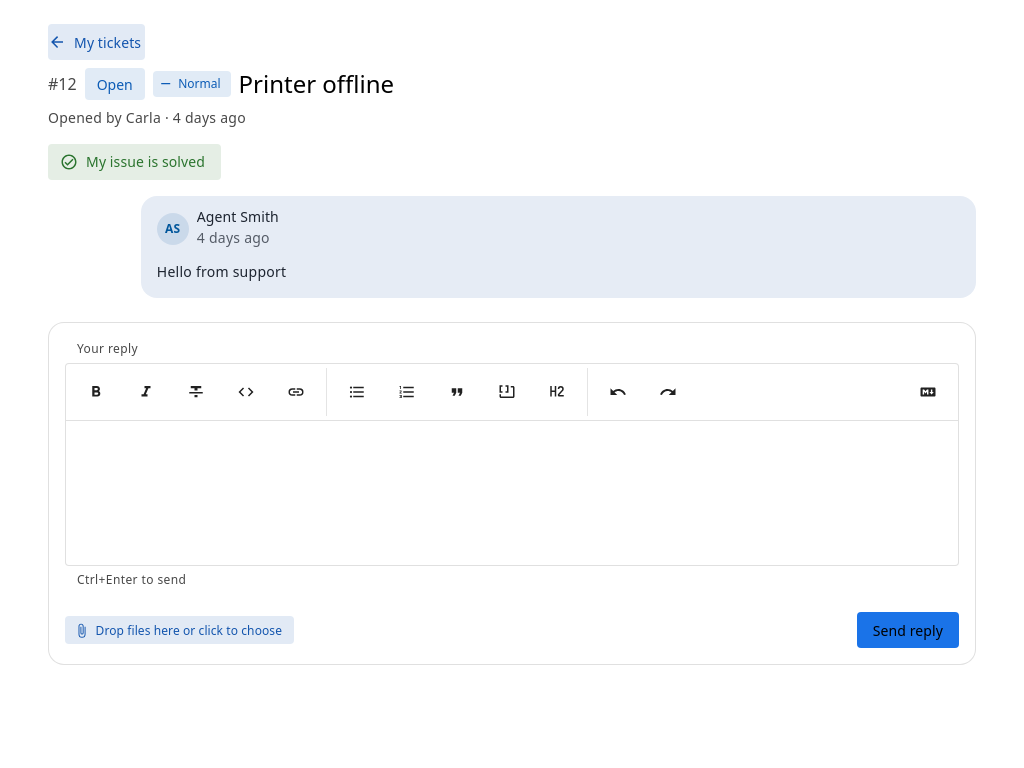
portal ticket detail (FE-017) › "My issue is solved" posts resolve after confirmation
The width and height of the screenshot is (1024, 768).
Click the button with test id "resolve-btn". click: [134, 162]
box: [48, 144, 221, 180]
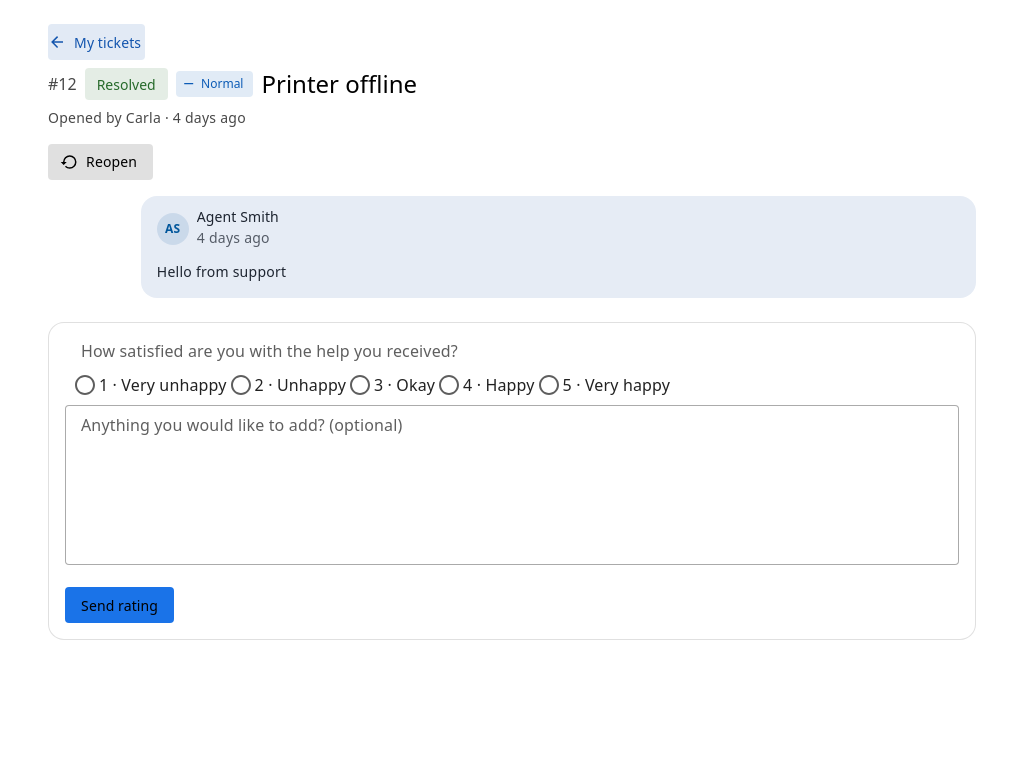
Check: the element with test id "status-chip" reads "Resolved", box [97, 74, 156, 94]
Check: the element with test id "csat-card" is shown, box [48, 322, 976, 640]
